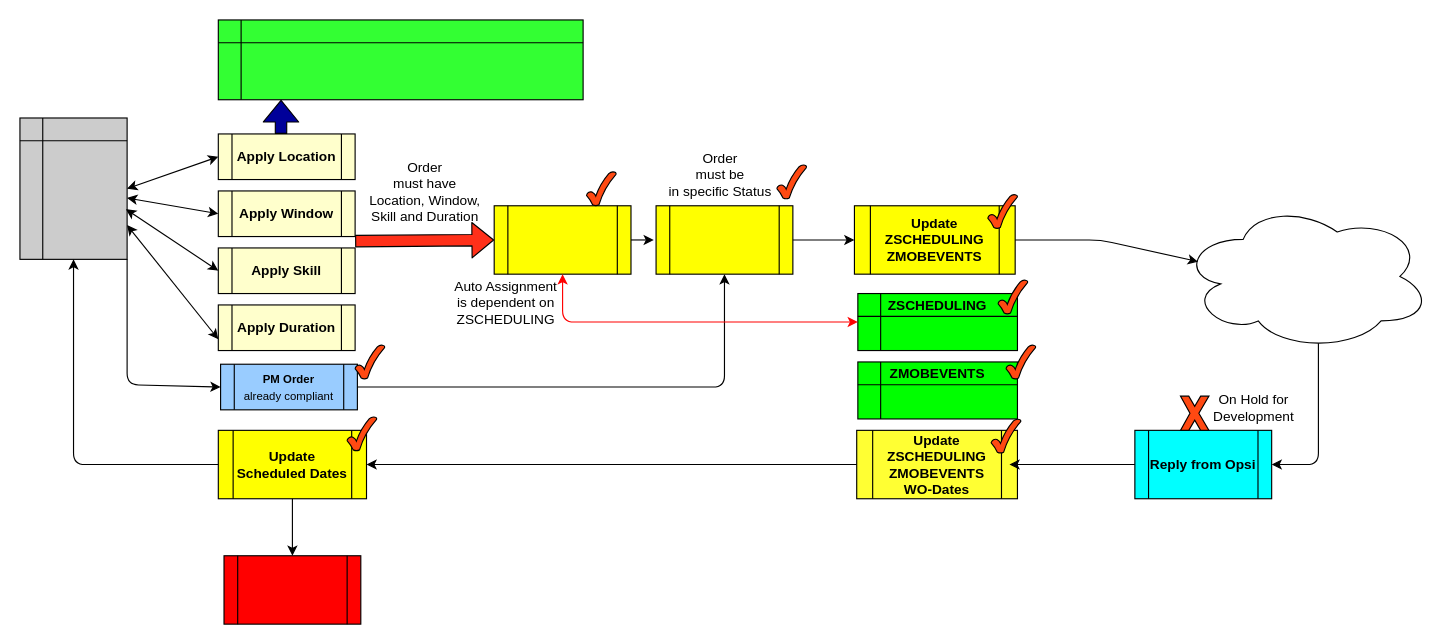
Image size: 1451x644. Some labels were removed from this diagram. Each missing label, with the centre of its shape:
"Calculate Assign Work-Centre" belongs at pixel 562 239.
"Opsi" belongs at pixel 1305 276.
"Order" belongs at pixel 73 188.
"Release to Mobile" belongs at pixel 292 589.
"Send to Opsi" belongs at pixel 724 239.
"ZRESCLOADING" belongs at pixel 400 59.
